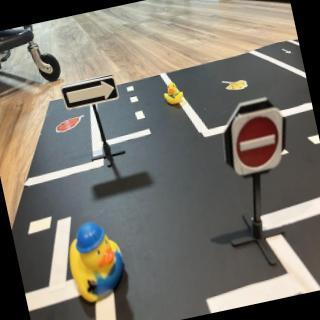duck_regular: (162, 81, 186, 108)
duck_specialty: (60, 215, 133, 310)
sign_noentry: (224, 107, 294, 178)
sign_oneway_right: (62, 75, 122, 112)
